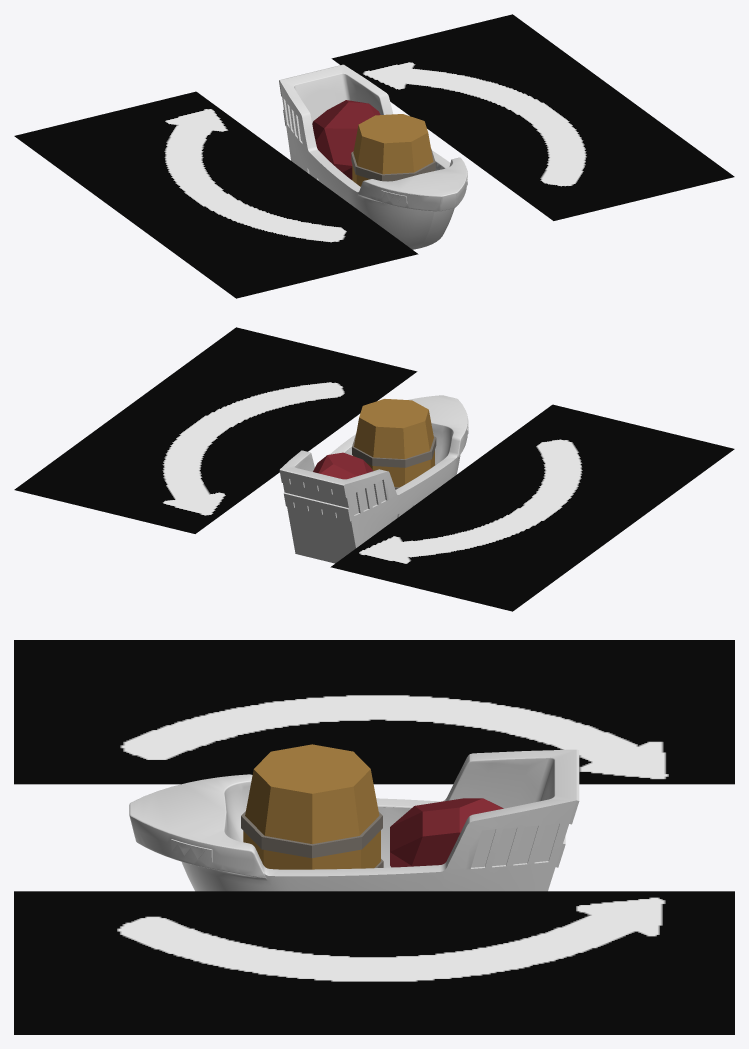
File: Boat.glb
3 views of the same model, one above another, from view 1: azimuth 30°, elevation 25°; view 2: azimuth 150°, elevation 25°; view 3: azimuth 270°, elevation 25° (orthographic). The views are drawn at different scales.
Visible parts, largest first — view 1: RotateCW, RotateCCW, Boat, Barrel, Ruby; view 2: RotateCW, RotateCCW, Boat, Barrel, Ruby; view 3: RotateCCW, RotateCW, Boat, Barrel, Ruby.
Part boxes in pixels (x1,y1,x2,y2): RotateCW: [14, 91, 418, 298]; RotateCCW: [331, 14, 734, 220]; Boat: [279, 64, 467, 249]; Barrel: [351, 114, 435, 186]; Ruby: [312, 100, 380, 179]; RotateCW: [330, 404, 734, 611]; RotateCCW: [14, 327, 417, 533]; Boat: [279, 395, 468, 563]; Barrel: [352, 399, 436, 489]; Ruby: [313, 452, 373, 479]; RotateCCW: [14, 891, 734, 1034]; RotateCW: [14, 640, 734, 784]; Boat: [129, 749, 579, 891]; Barrel: [241, 744, 383, 869]; Ruby: [390, 798, 503, 867].
Bounding box in the file's own units: 2.02 × 0.3856 × 1.56.
5 materials, 1 textured.
